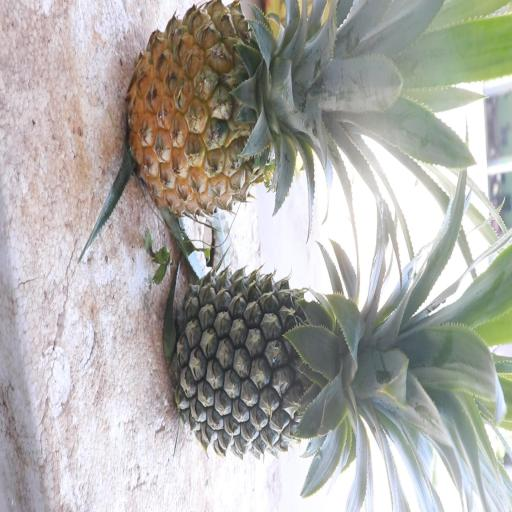Pineapple - v8 v1: (129, 0, 411, 197)
